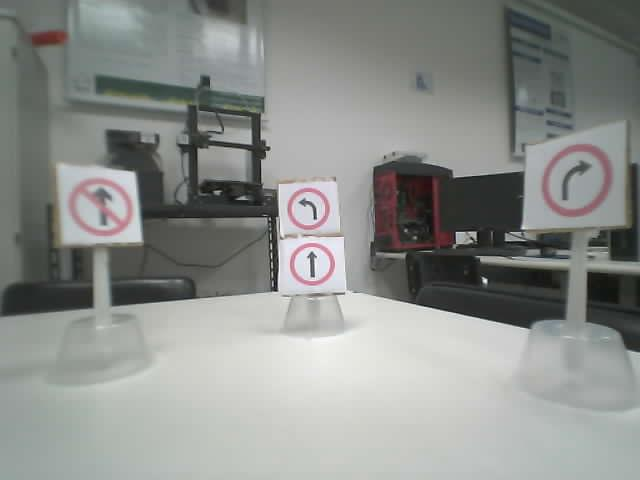R-25a_esquerda: (286, 186, 330, 229)
R-25b_direita: (540, 143, 611, 217)
R-26_frente: (289, 241, 335, 284)
R-3_sentido-proibido: (68, 176, 134, 237)
